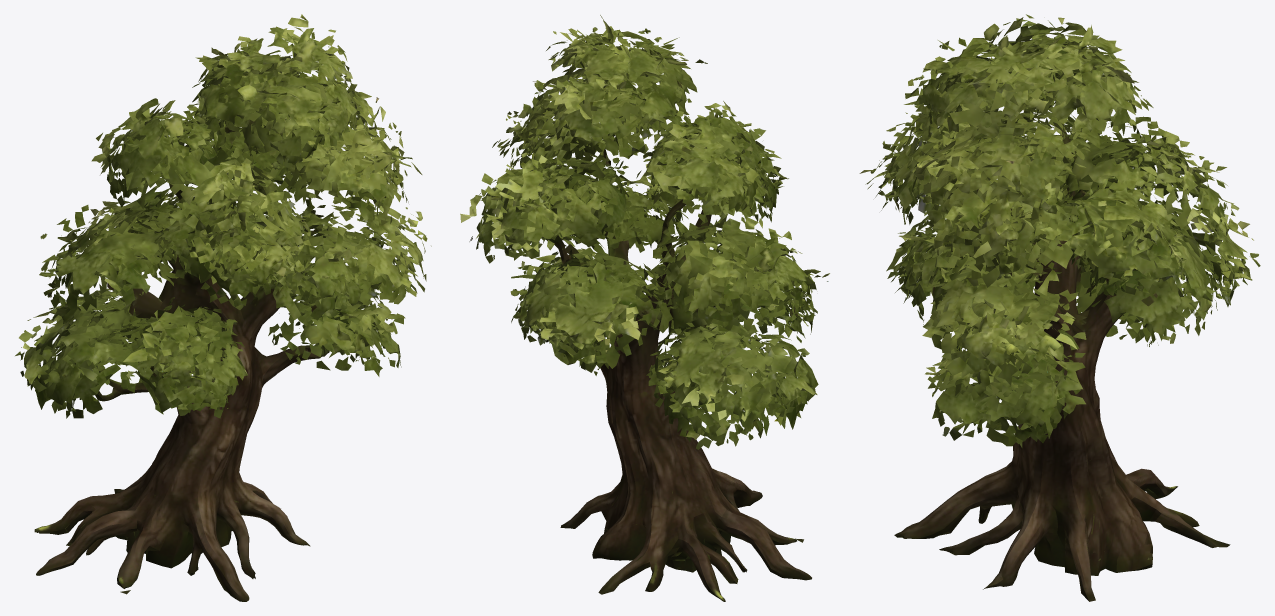
Rendered from meadows_ironwood_b.glb.
3 views of the same model, side by side, from view 1: azimuth 30°, elevation 25°; view 2: azimuth 150°, elevation 25°; view 3: azimuth 270°, elevation 25° (orthographic). The views are drawn at different scales.
Visible parts, largest first — view 1: Mesh_0; view 2: Mesh_0; view 3: Mesh_0.
Boxes of the visible parts, box(x1,y1,x2,y2) form: Mesh_0: box(15, 14, 431, 601); Mesh_0: box(460, 15, 829, 601); Mesh_0: box(859, 14, 1260, 601).
Size of the model in its own units: 1.46 by 1.89 by 1.2.
Materials: 1 (1 with a texture image).
